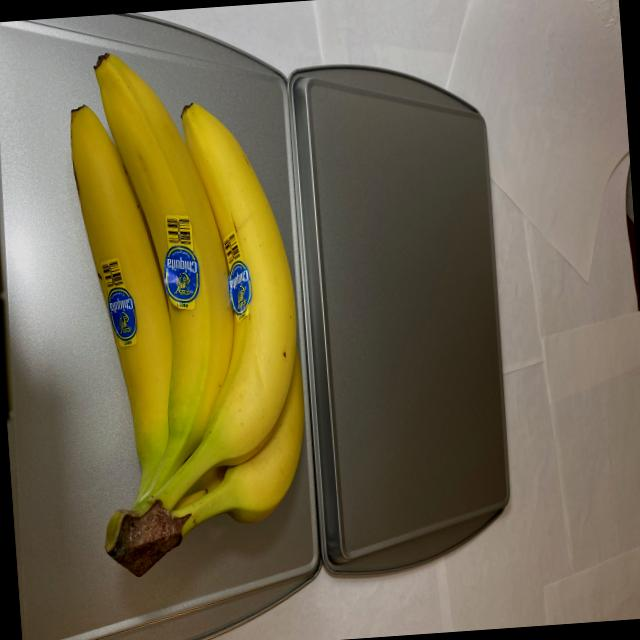banana: (48, 35, 317, 583)
